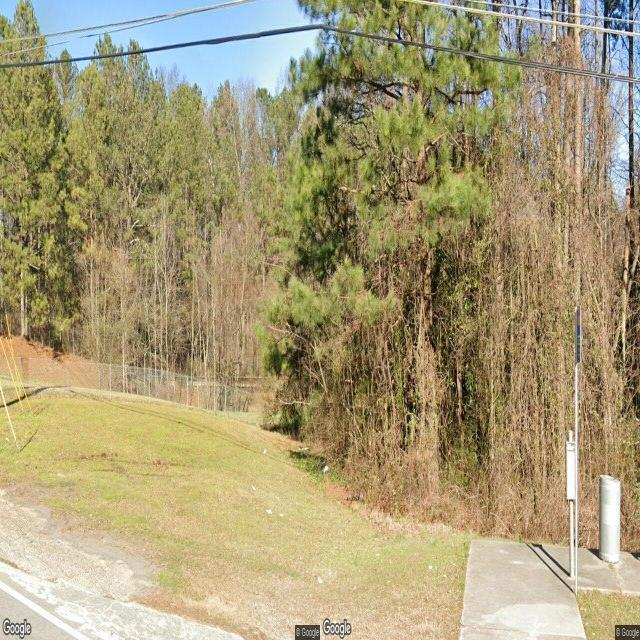trash_can: (599, 474, 621, 564)
